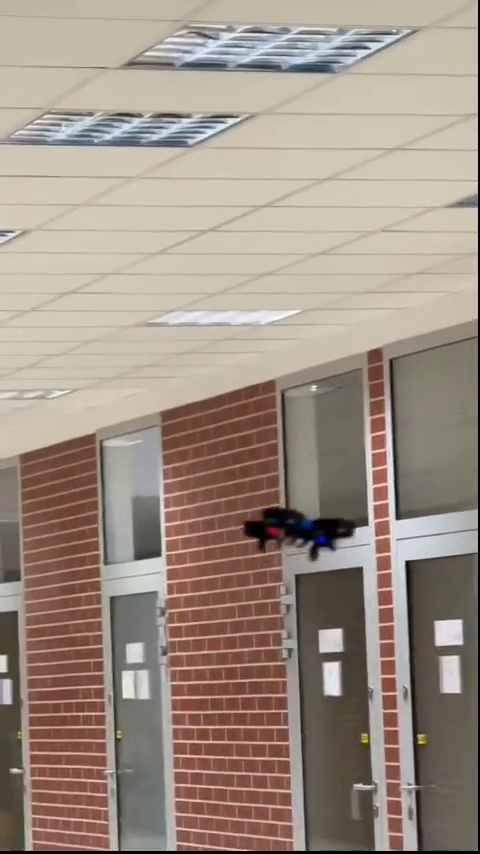drone: (241, 505, 352, 564)
